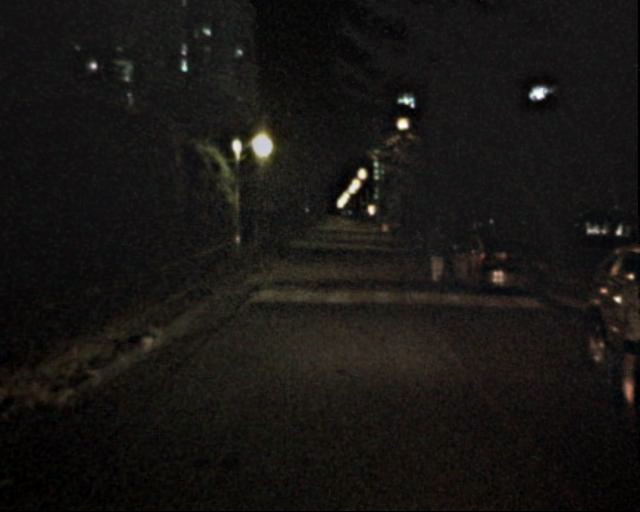person: (600, 254, 640, 420), (423, 224, 448, 286), (409, 230, 427, 275)
